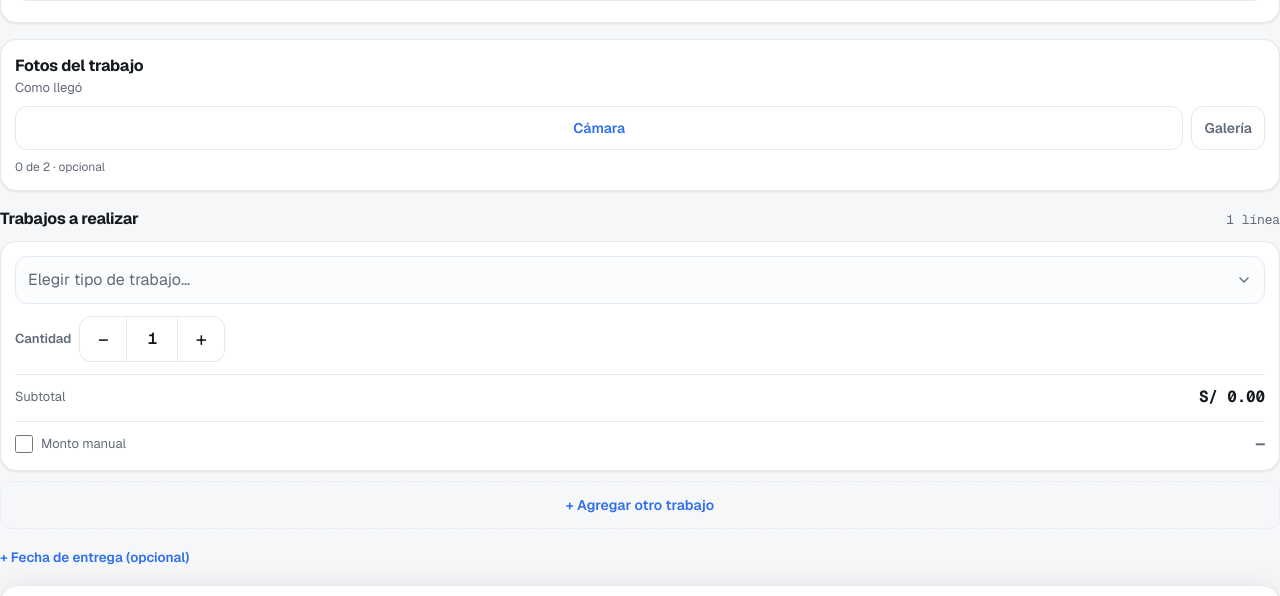
Test: TrabajoForm — el monto manual, con el subtotal › al marcarlo aparece el campo en el sitio de la cifra
This screenshot has width=1280, height=596.
(page scrolled)
Click the checkbox labelled "Monto manual" at (24, 444), box left=15, top=434, right=33, bottom=452
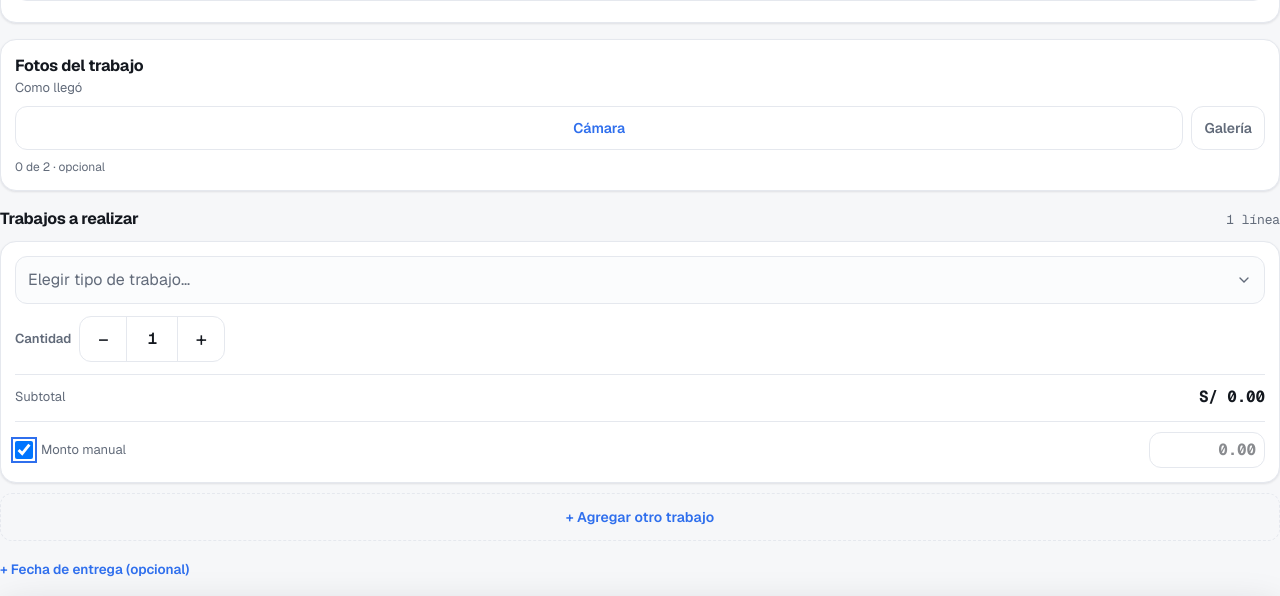
Now the number field named "precio_manual" is shown, box left=1149, top=432, right=1265, bottom=468
